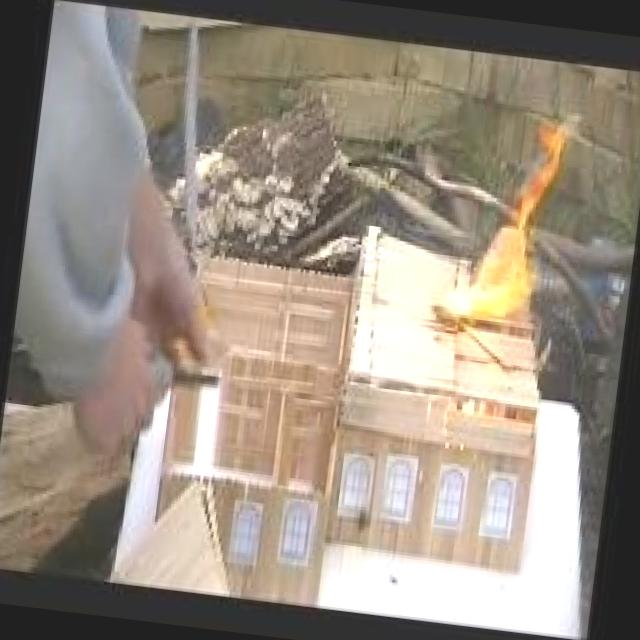fire: (442, 115, 568, 329)
